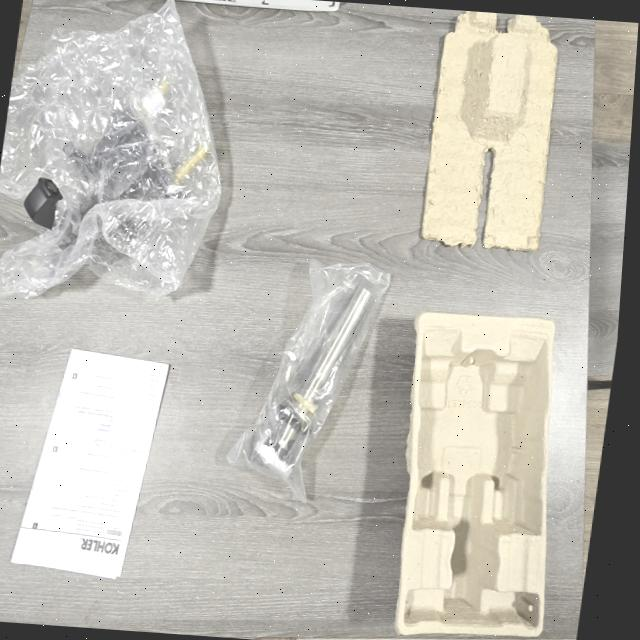11: (225, 259, 388, 501)
8: (10, 348, 167, 577)
9c: (0, 0, 220, 296)
